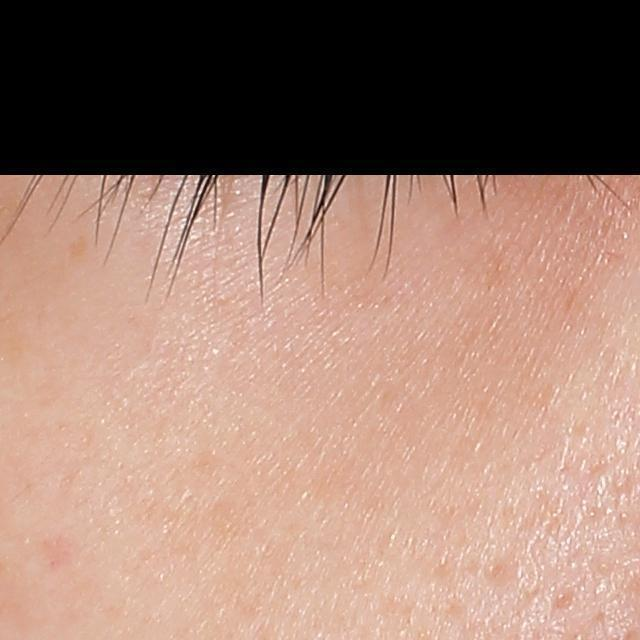melasma: (67, 233, 89, 263)
